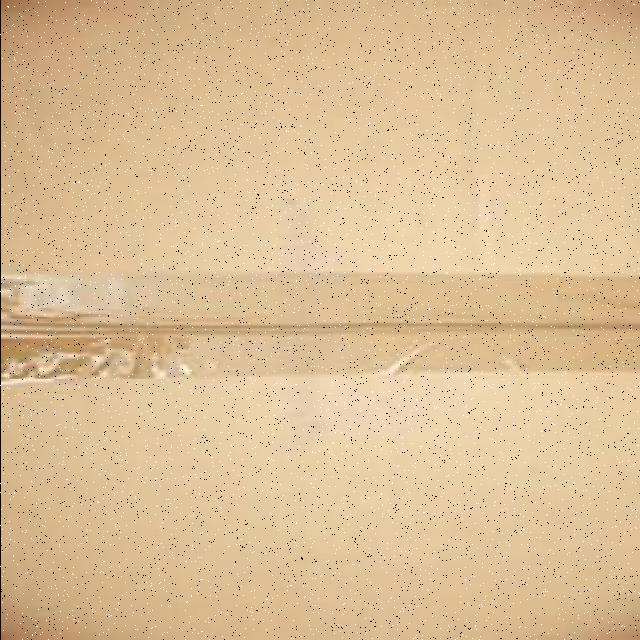normal: (1, 64, 638, 634)
